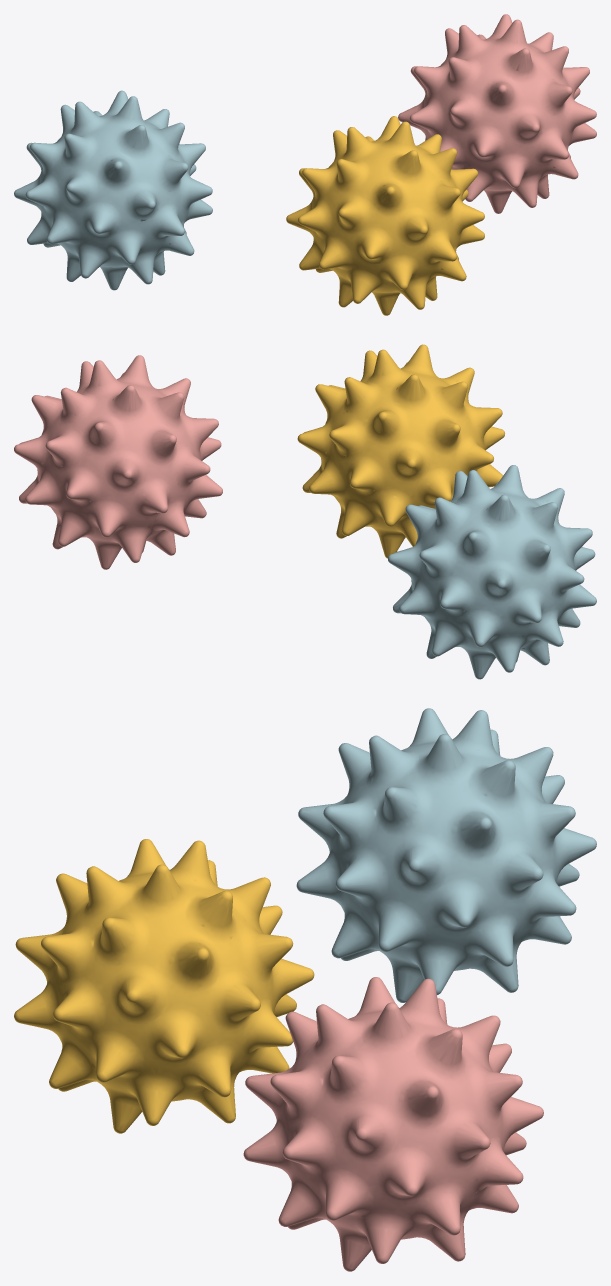
File: haptic-feedback.glb
The picture shows the model from 3 angles, top to bottom: view 1: azimuth 30°, elevation 25°; view 2: azimuth 150°, elevation 25°; view 3: azimuth 270°, elevation 25°; orthographic projection. The views are drawn at different scales.
Visible parts, largest first — view 1: hf-ball, hf-ball3, hf-ball2; view 2: hf-ball2, hf-ball3, hf-ball; view 3: hf-ball2, hf-ball, hf-ball3.
Part boxes in pixels (x1=…): hf-ball: x1=286, y1=116, x2=484, y2=315; hf-ball3: x1=14, y1=90, x2=212, y2=290; hf-ball2: x1=398, y1=14, x2=596, y2=213; hf-ball2: x1=14, y1=355, x2=222, y2=569; hf-ball3: x1=388, y1=465, x2=596, y2=679; hf-ball: x1=297, y1=344, x2=504, y2=558; hf-ball2: x1=243, y1=977, x2=543, y2=1271; hf-ball: x1=14, y1=839, x2=314, y2=1133; hf-ball3: x1=296, y1=708, x2=596, y2=1002.
Bounding box in the file's own units: 0.2124 × 0.0676 × 0.1321.
